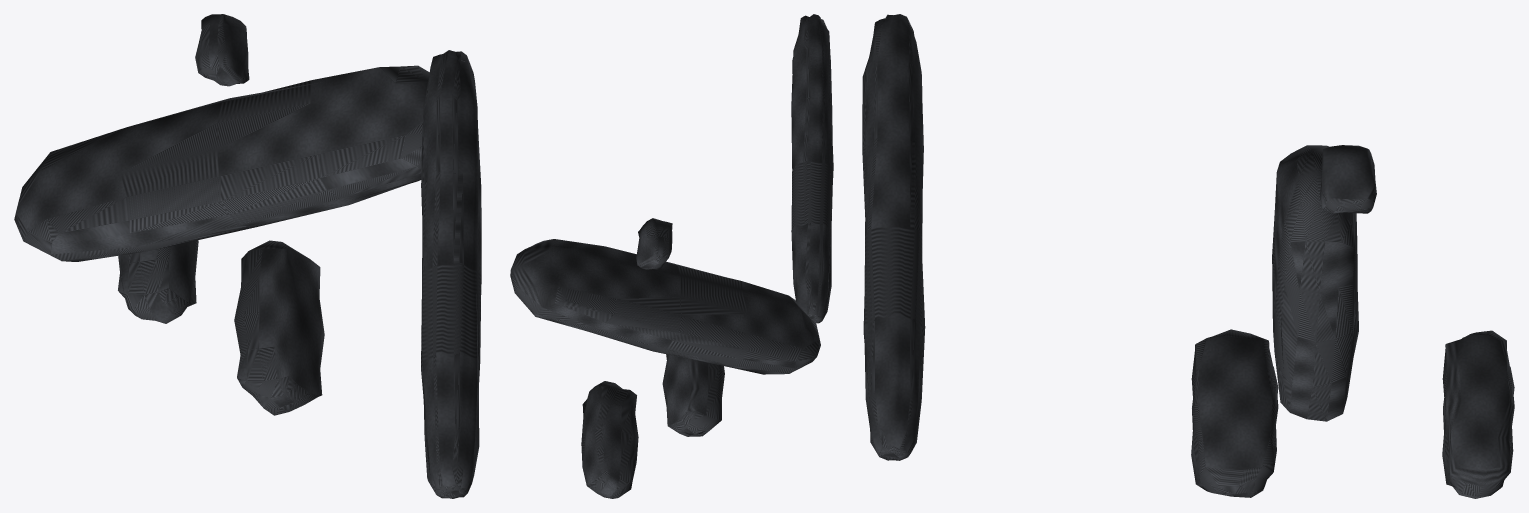
The model's file is gun_smg_low.glb.
3 views of the same model, side by side, from view 1: azimuth 30°, elevation 25°; view 2: azimuth 150°, elevation 25°; view 3: azimuth 270°, elevation 25° (orthographic). The views are drawn at different scales.
Size of the model in its own units: 0.3182 by 0.3241 by 0.4017.
Materials: 1 (1 with a texture image).
